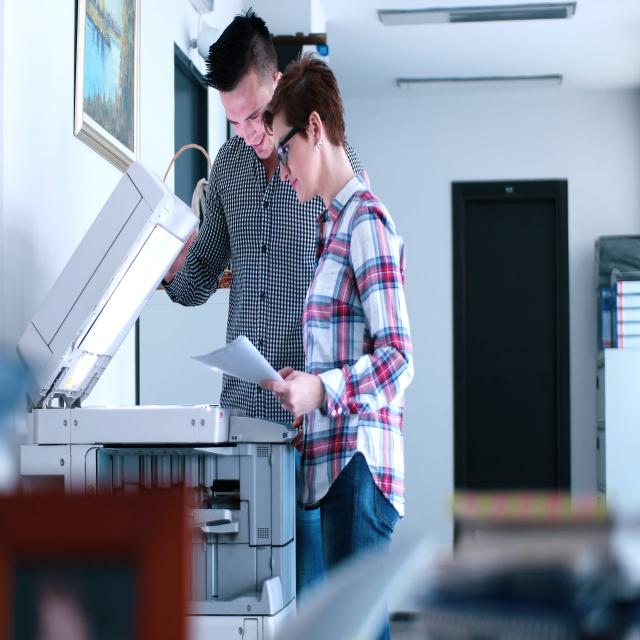printer: (15, 158, 300, 638)
